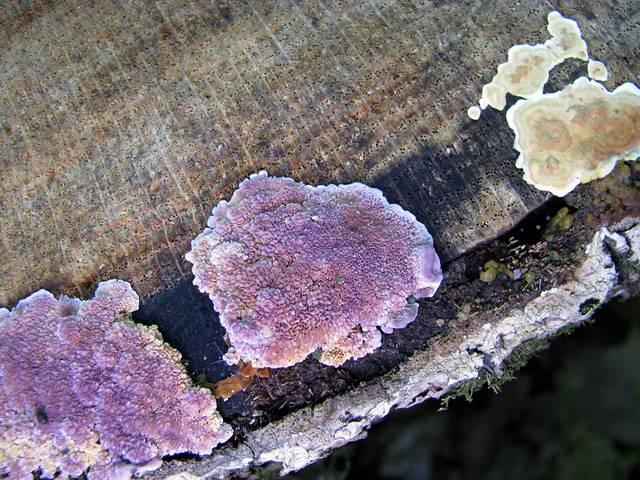Non-edible Mushroom: (184, 169, 444, 370), (0, 263, 235, 480)
